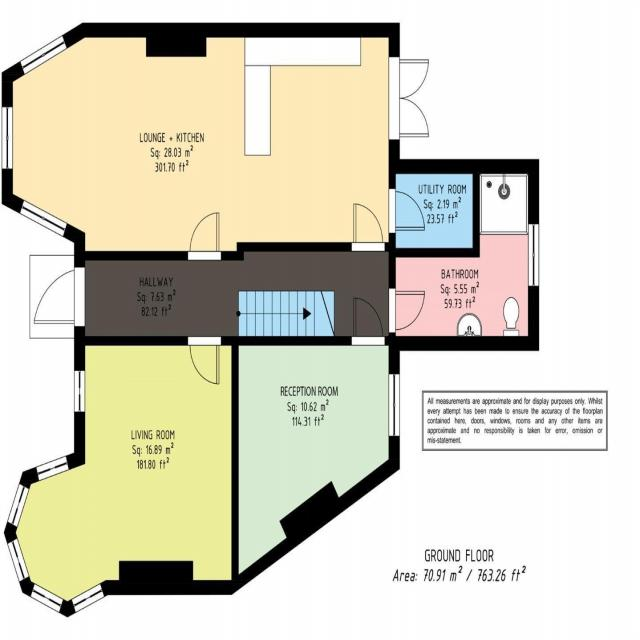DOOR: (349, 295, 387, 346), (387, 286, 426, 334), (350, 201, 386, 252), (187, 211, 223, 262), (187, 336, 223, 385), (389, 187, 426, 234)
DOUBLE DOOR: (389, 56, 430, 139)
ROOM: (2, 22, 431, 260), (3, 337, 240, 618), (231, 294, 400, 593)
WINDOW: (17, 33, 70, 78), (17, 197, 70, 238), (27, 580, 67, 615), (5, 534, 32, 584), (7, 475, 31, 530), (69, 582, 106, 615), (32, 454, 70, 484), (1, 103, 15, 171), (387, 370, 401, 438), (528, 222, 541, 289), (73, 367, 87, 414)
